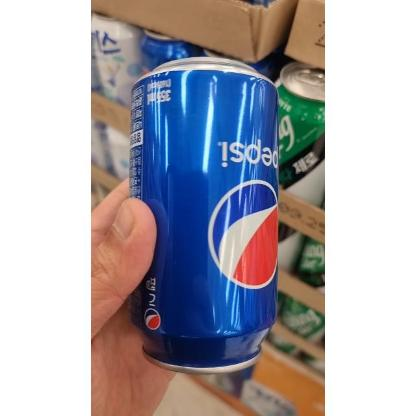Can: (128, 52, 280, 378)
